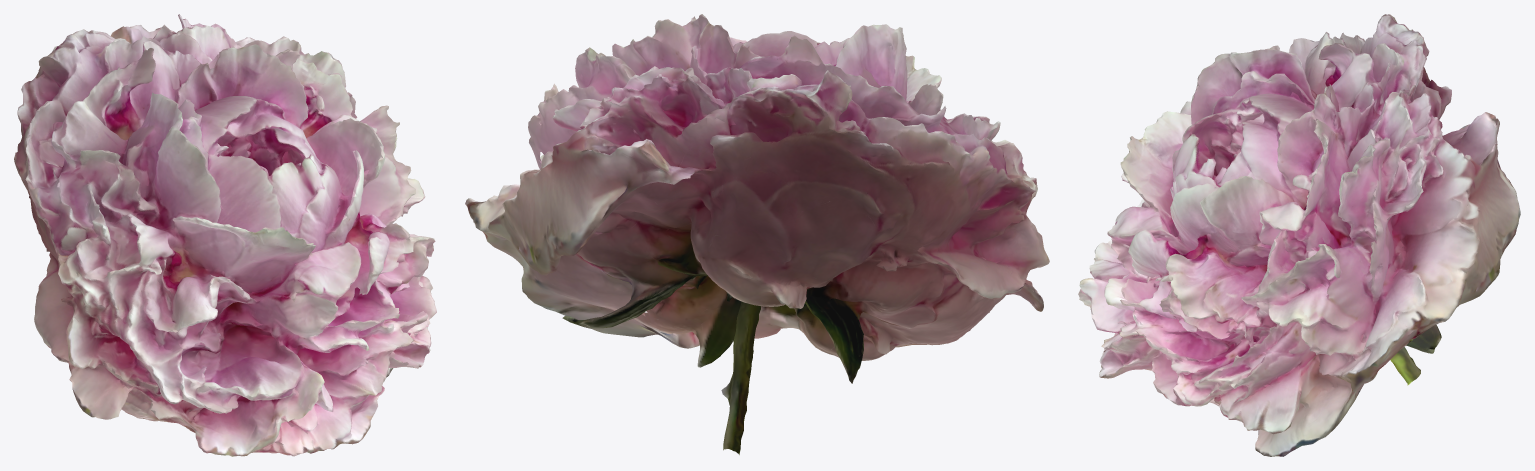
Rendered from peony.glb.
3 renders of one model, left to right at view 1: azimuth 30°, elevation 25°; view 2: azimuth 150°, elevation 25°; view 3: azimuth 270°, elevation 25°, orthographic. The views are drawn at different scales.
Visible parts, largest first — view 1: Object_4; view 2: Object_4; view 3: Object_4.
Part boxes in pixels (<box>): Object_4: <box>14,14,436,456</box>; Object_4: <box>465,14,1049,454</box>; Object_4: <box>1078,14,1520,456</box>.
Size of the model in its own units: 1.15 by 0.9338 by 1.12.
Materials: 1 (1 with a texture image).
